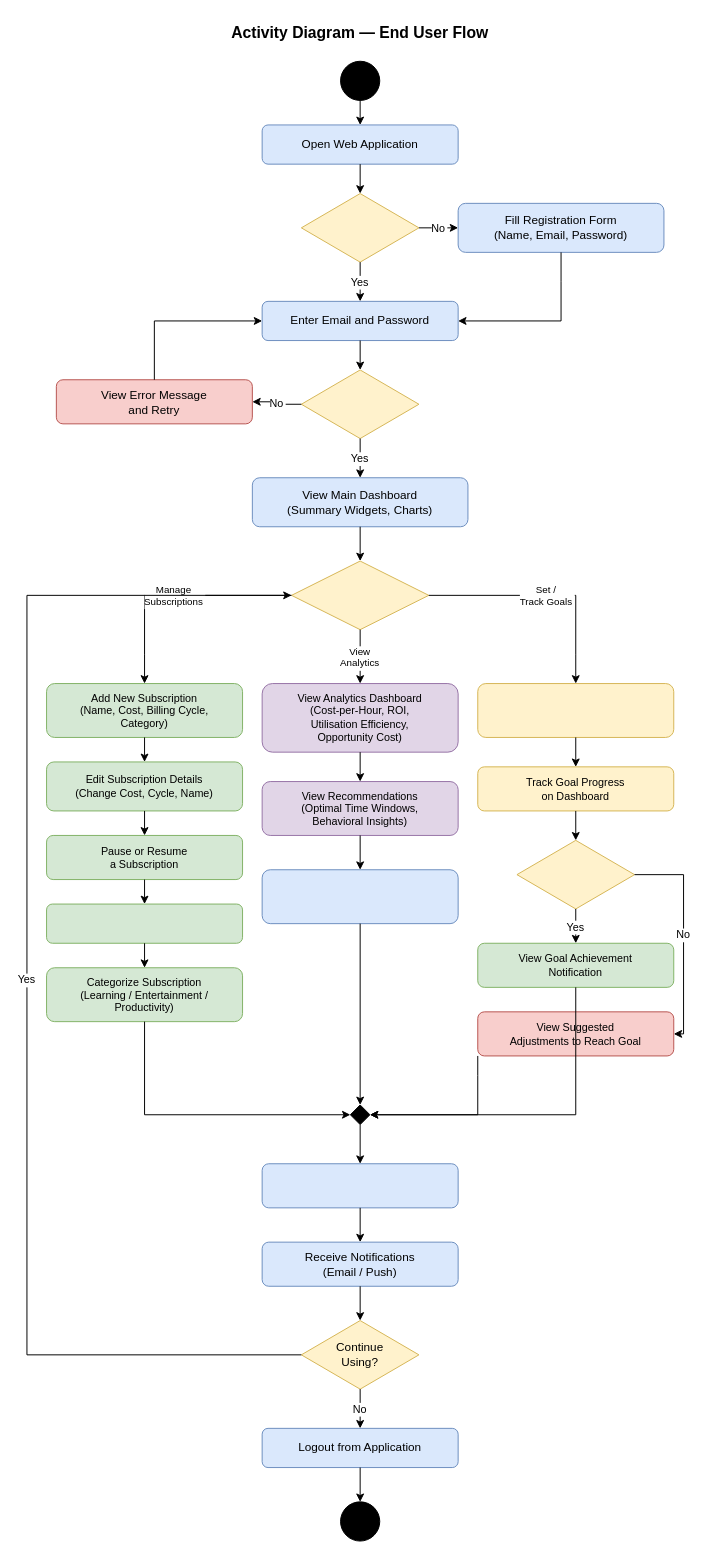
The diagram is 709 pixels wide and 1558 high, and some of its shapes have lost their labels. Each missing label, with the centre of its shape:
Choose Action: point 360,595
Configure Profile (Preferences, Timezone, Notification Settings): point 359,896
Delete a Subscription: point 144,923
Goal Met?: point 575,874
Has Account?: point 359,227
Login Success?: point 359,404
Set Personal Goals (Budget Limit, Usage Target, Learning Hours): point 575,710
View Weekly Summary Report: point 359,1185
